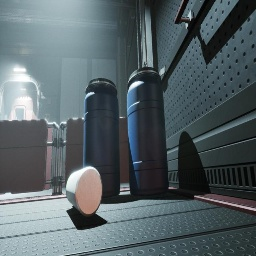0: (66, 166, 103, 217)
EmergencyPhone ,: (44, 110, 50, 123)
